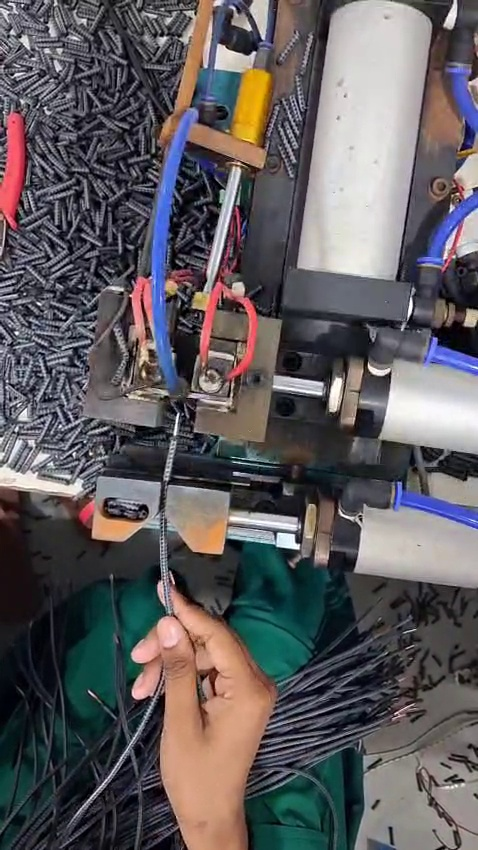machine: (74, 253, 300, 481)
peeled_wire: (161, 403, 194, 472)
